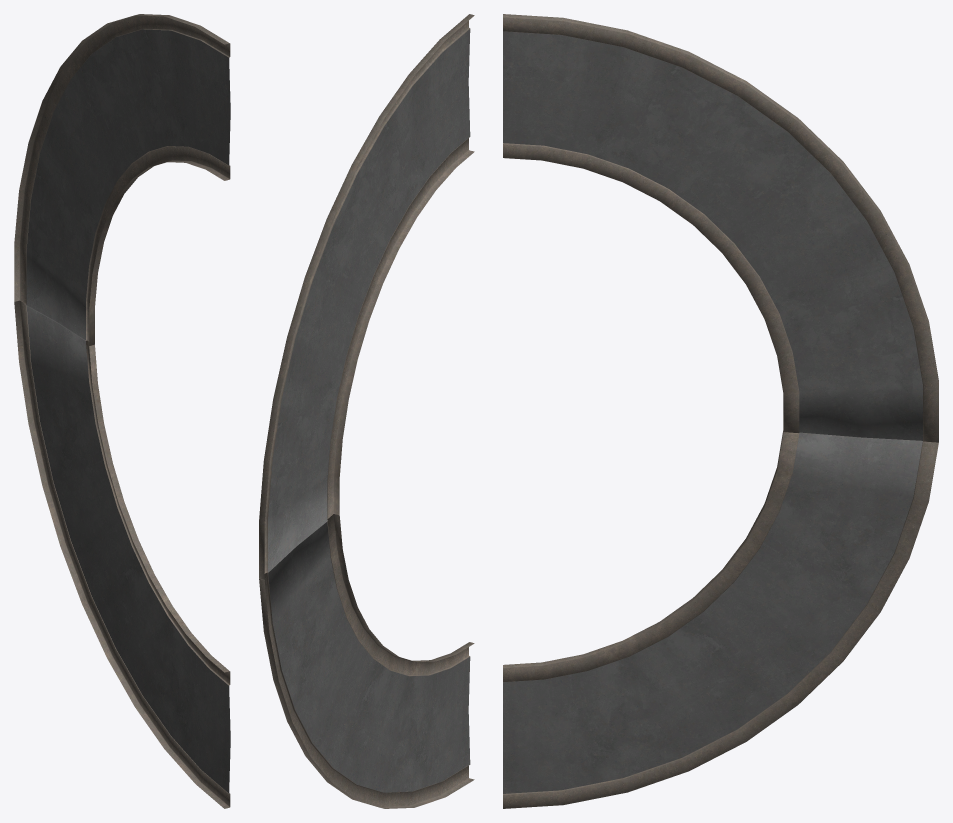
Rendered from cP_Pathway01_v02_HalfCircle.dae.
3 renders of one model, left to right at view 1: azimuth 30°, elevation 25°; view 2: azimuth 150°, elevation 25°; view 3: azimuth 270°, elevation 25°, orthographic. The views are drawn at different scales.
Visible parts, largest first — view 1: cP_Pathway01_v02_HalfCircle.001; view 2: cP_Pathway01_v02_HalfCircle.001; view 3: cP_Pathway01_v02_HalfCircle.001.
Part boxes in pixels (x1,y1,x2,y2): cP_Pathway01_v02_HalfCircle.001: [14, 14, 230, 808]; cP_Pathway01_v02_HalfCircle.001: [259, 14, 474, 808]; cP_Pathway01_v02_HalfCircle.001: [503, 14, 938, 808].
Size of the model in its own units: 0.0939 by 5.46 by 10.95.
